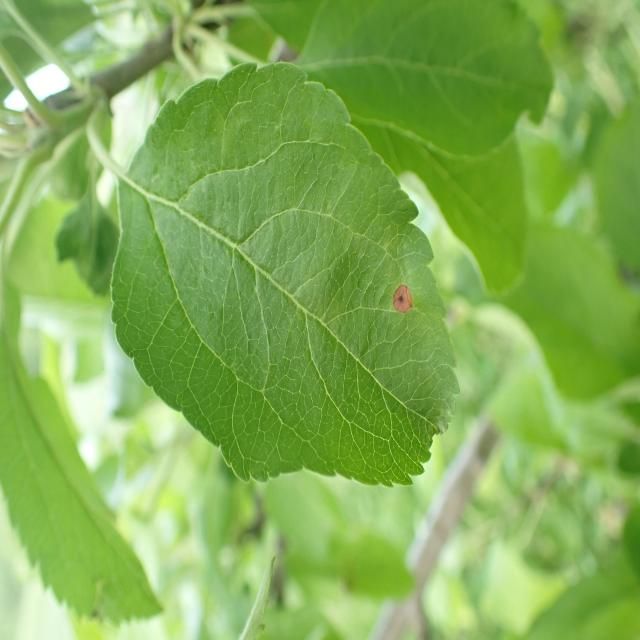frog-eye-leaf-spot: (110, 62, 461, 487)
